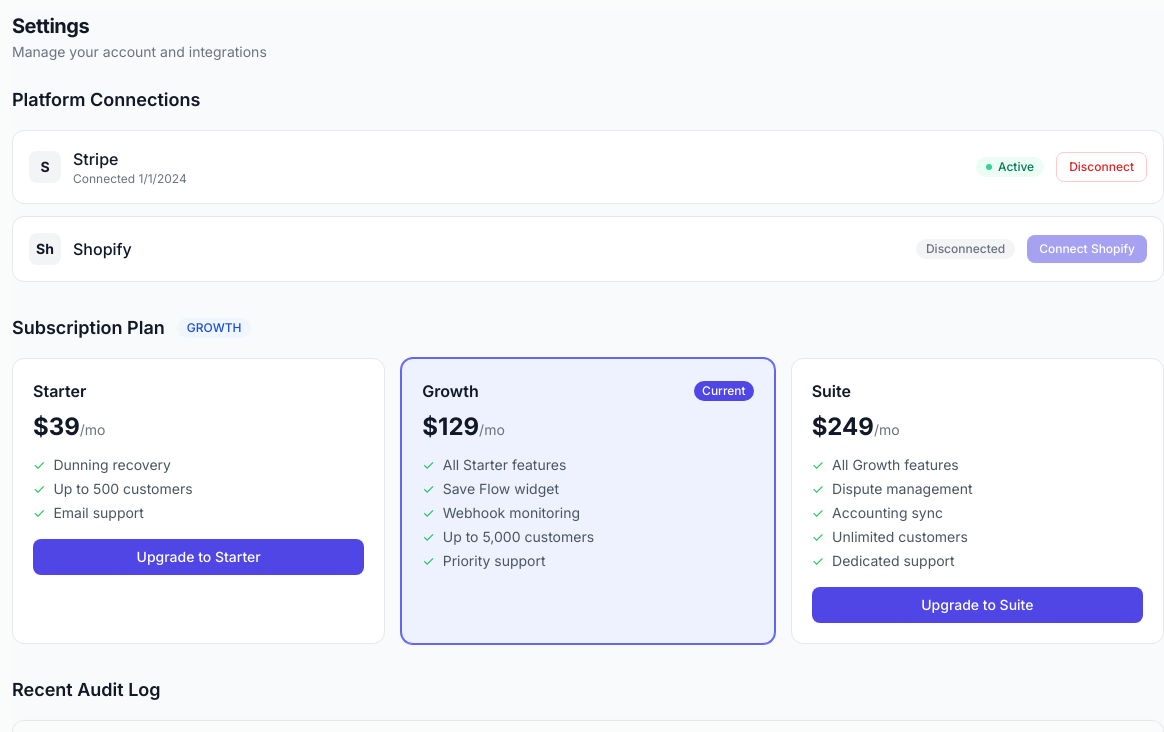
Test case: SettingsPage › disables upgrade buttons while mutation is pending
The image size is (1164, 732).
Click the button "Upgrade to Suite". click: (977, 605)
box: [812, 587, 1143, 623]
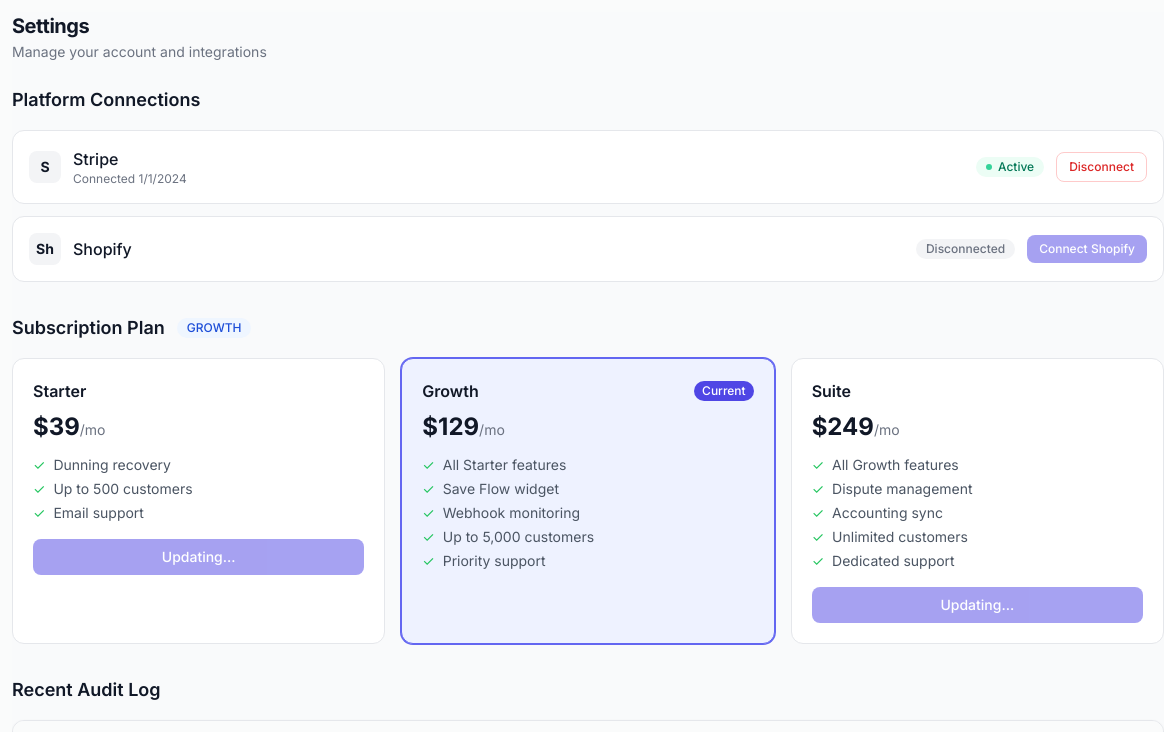
Check: the button "Updating…" below "Email support" is shown, box [33, 539, 364, 575]
